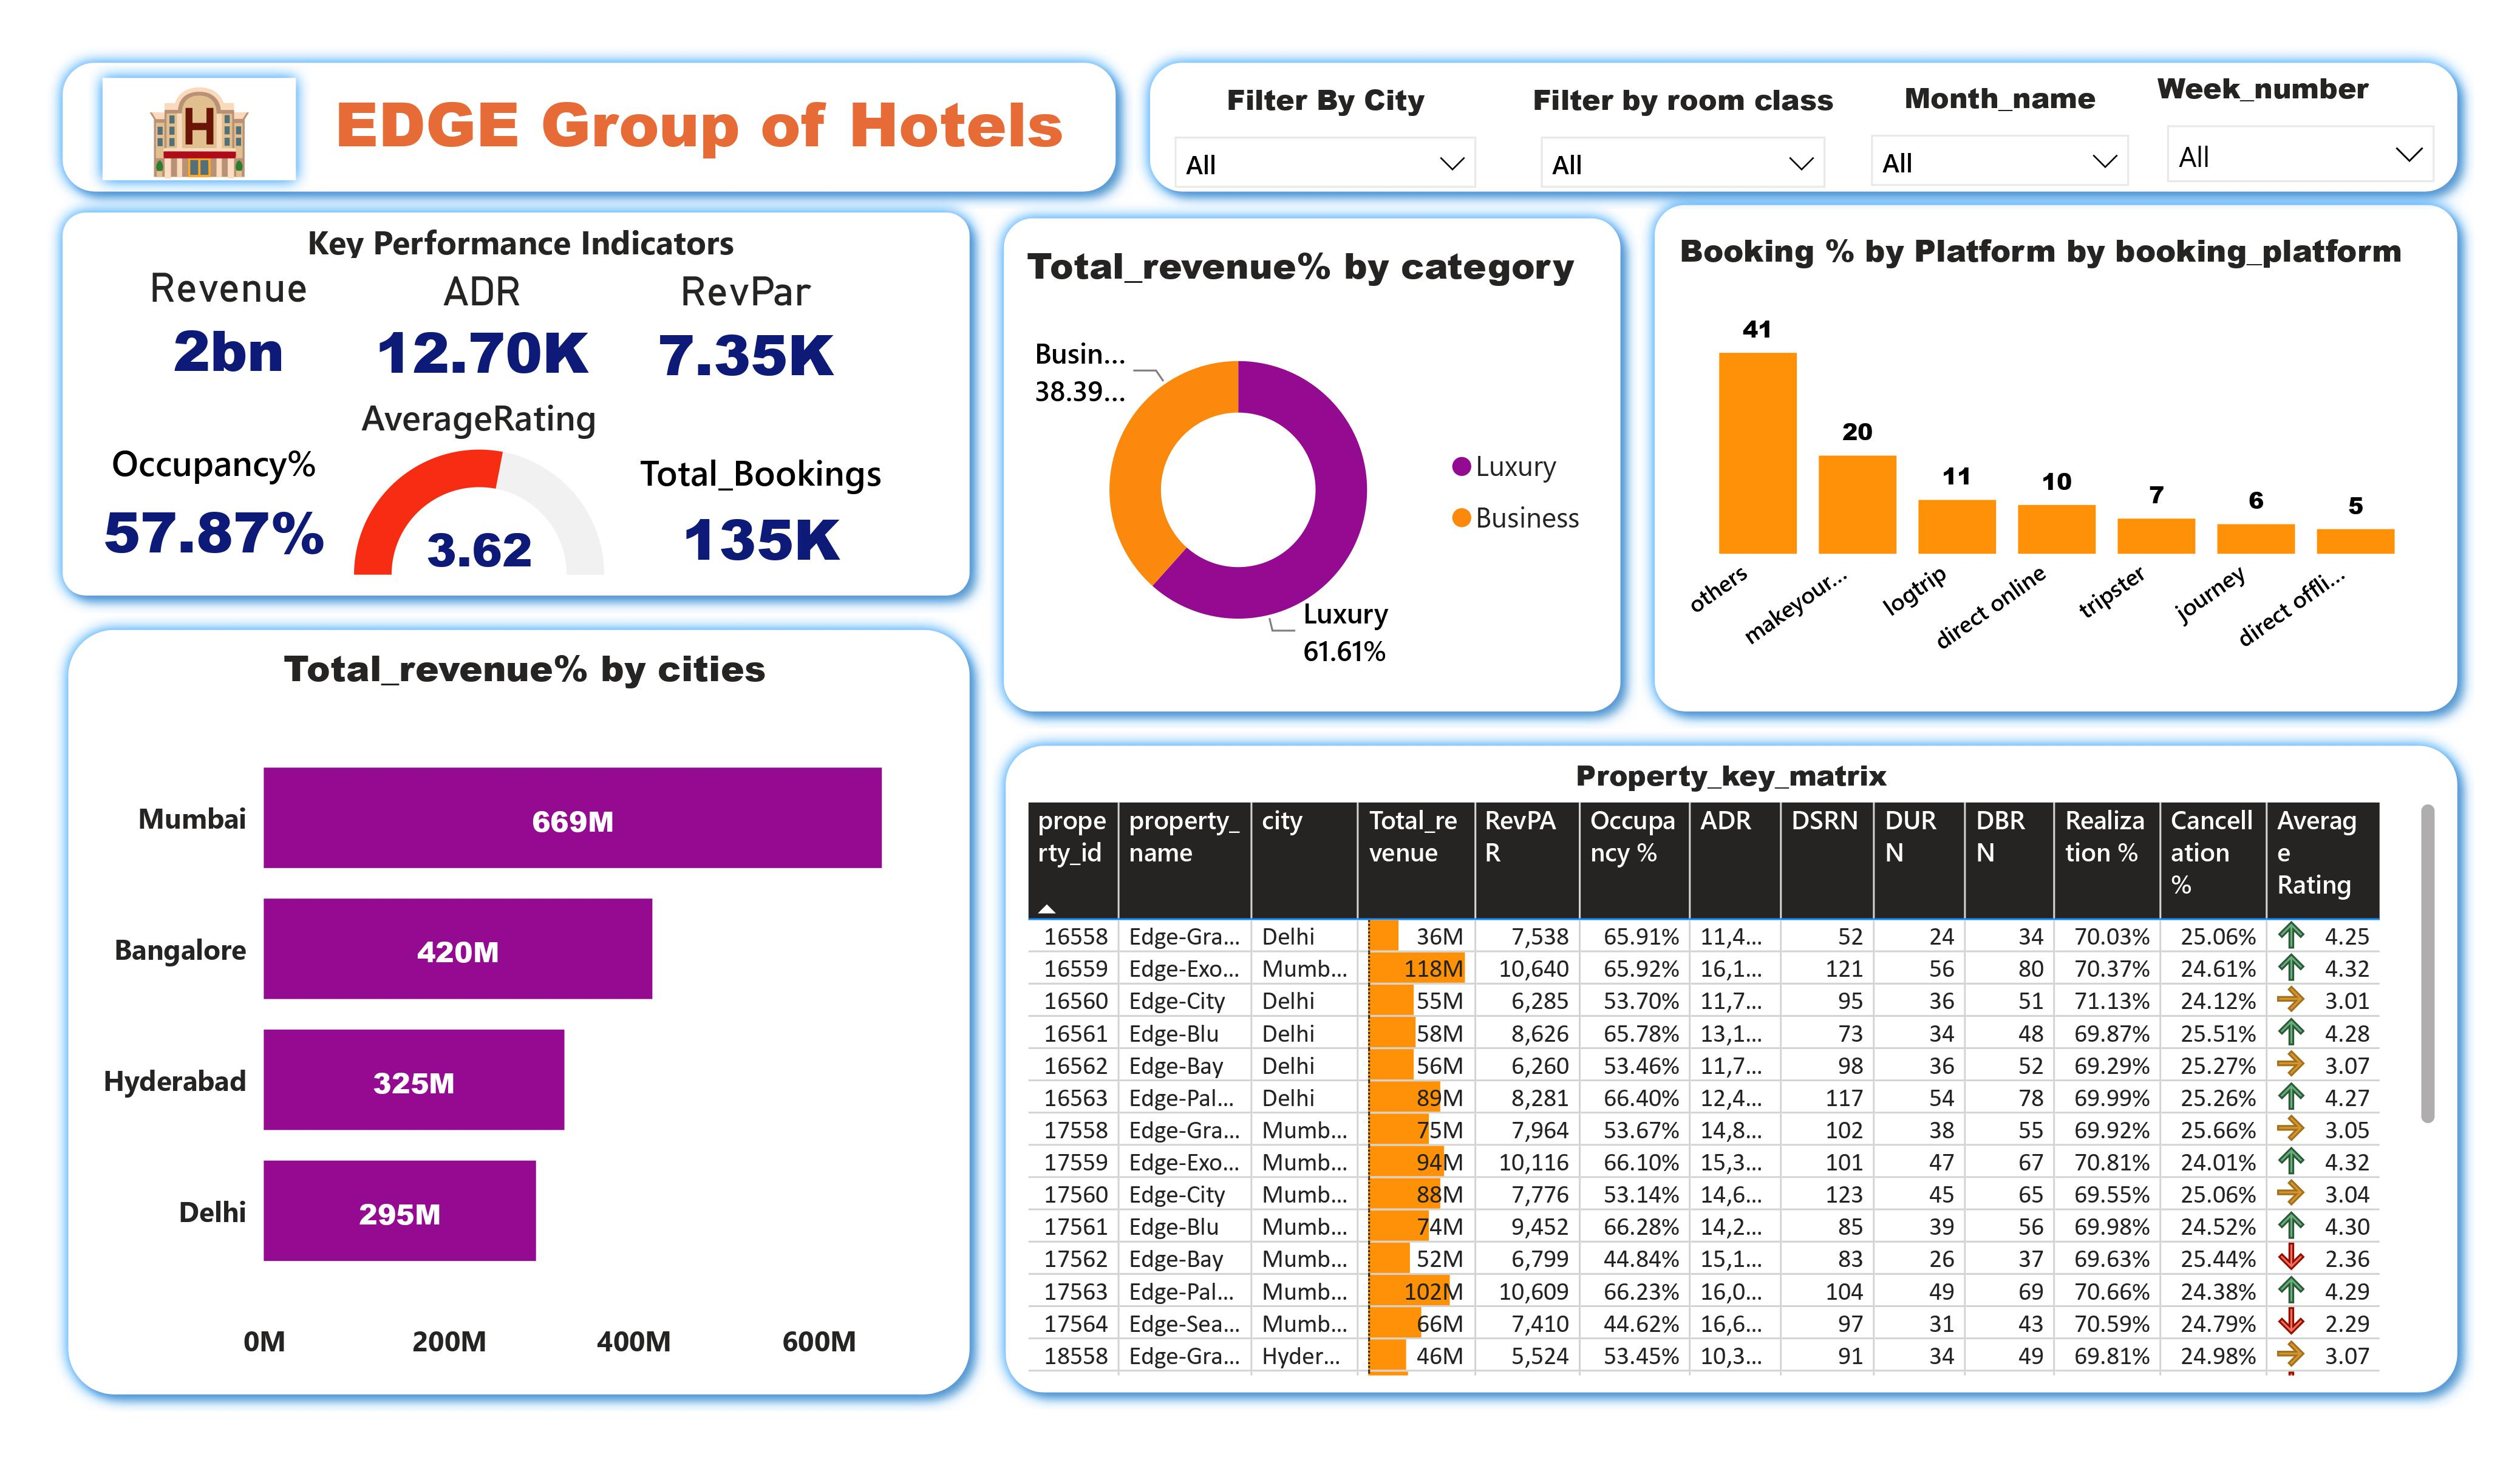

The dashboard page shown, as its layout file describes it:
{"tool":"powerbi","page":{"name":"MainPage","canvas":[1280,720],"ordinal":0},"visuals":[{"type":"textbox","box":[140.6,13.3,408.4,60.7],"z":0,"group":"g3"},{"type":"slicer","title":"Filter by room class","fields":{"Values":["dim_rooms.room_class"]},"box":[777.7,17.9,170.2,58.3],"z":0,"group":"g2"},{"type":"shape","box":[0,78.6,496.5,220],"z":0},{"type":"card","title":"RevPar","fields":{"Values":["key measures.RevPAR"]},"box":[302.6,117,132,68.2],"z":0,"group":"g1"},{"type":"actionButton","box":[22.2,8.9,118.4,69.5],"z":1000,"group":"g3"},{"type":"slicer","title":"Filter By City","fields":{"Values":["dim_hotels.city"]},"box":[584.5,17.9,179.4,62.9],"z":1000,"group":"g2"},{"type":"group","id":"g1","title":"Group 1","box":[35.5,115.4,399.5,69.5],"z":1000},{"type":"card","title":"Revenue","fields":{"Values":["key measures.Total_revenue"]},"box":[35.5,115.4,121,68.2],"z":1000,"group":"g1"},{"type":"slicer","title":"Month_name","fields":{"Values":["dim_date.Month Name"]},"box":[951,16.4,156.4,59.8],"z":2000,"group":"g2"},{"type":"shape","box":[496.5,81.7,342.5,278.1],"z":2000},{"type":"card","title":"ADR","fields":{"Values":["key measures.ADR"]},"box":[158.8,117,141.4,66.7],"z":2000,"group":"g1"},{"type":"slicer","title":"Week_number","fields":{"Values":["dim_date.week no"]},"box":[1107.4,11.8,161,64.4],"z":3000,"group":"g2"},{"type":"donutChart","title":"Total_revenue% by category","fields":{"Y":["key measures.Total_revenue"],"Category":["dim_hotels.category"]},"box":[512.2,102.1,311.1,238.8],"z":3000},{"type":"gauge","title":"AverageRating","fields":{"Y":["key measures.Average Rating"],"TargetValue":["key measures.target_rating"]},"box":[155.4,183.5,145,100.6],"z":3125,"group":"g4"},{"type":"card","title":"Total_Bookings","fields":{"Values":["key measures.Total Succesful Bookings"]},"box":[303.2,212.1,146.1,72.3],"z":3312,"group":"g4"},{"type":"card","title":"Occupancy%","fields":{"Values":["key measures.Occupancy %"]},"box":[21.6,207.9,133.5,73.8],"z":3500,"group":"g4"},{"type":"shape","box":[839,75.4,441.5,284.4],"z":4000},{"type":"clusteredColumnChart","fields":{"Y":["key measures.Booking % by Platform"],"Category":["fact_bookings.booking_platform"]},"box":[856.3,95.8,408.5,235.7],"z":5000},{"type":"shape","box":[497.2,359.6,782.8,359.6],"z":6000},{"type":"tableEx","title":"Property_key_matrix","fields":{"Values":["dim_hotels.property_id","dim_hotels.property_name","dim_hotels.city","key measures.Total_revenue","key measures.RevPAR","key measures.Occupancy %","key measures.ADR","key measures.DSRN","key measures.DURN","key measures.DBRN","key measures.Realisation %","key measures.Cancellation %"]},"box":[512,374.4,753.2,331.5],"z":7000},{"type":"shape","box":[3.1,298.5,493.3,421.1],"z":8000},{"type":"barChart","title":"Total_revenue% by cities","fields":{"Y":["key measures.Total_revenue"],"Category":["dim_hotels.city"]},"box":[23.7,313.7,457.2,390.7],"z":9000},{"type":"shape","box":[0,0,572.7,85.8],"z":10000},{"type":"shape","box":[572.7,0,707.3,85.8],"z":11000},{"type":"group","id":"g2","title":"Group 2","box":[584.5,11.8,683.7,69.5],"z":12000},{"type":"group","id":"g3","title":"Group 4","box":[22.2,8.9,526.8,69.5],"z":13000},{"type":"group","id":"g4","title":"Group 3","box":[21.6,183.5,427.7,100.9],"z":14000},{"type":"shape","box":[35.5,85.8,429.1,31.1],"z":15000}]}

Visuals, with their boxes on the page's 1280x720 design canvas (x1, y1, x2, y2). These are canvas units, not pixel positions in the 2520x1457 screenshot, which may show the page scaled, cropped or inside an application window:
textbox: [x1=141, y1=13, x2=549, y2=74]
"Filter by room class" slicer: [x1=778, y1=18, x2=948, y2=76]
shape: [x1=0, y1=79, x2=496, y2=299]
"RevPar" card: [x1=303, y1=117, x2=435, y2=185]
actionButton: [x1=22, y1=9, x2=141, y2=78]
"Filter By City" slicer: [x1=584, y1=18, x2=764, y2=81]
"Group 1" group: [x1=36, y1=115, x2=435, y2=185]
"Revenue" card: [x1=36, y1=115, x2=156, y2=184]
"Month_name" slicer: [x1=951, y1=16, x2=1107, y2=76]
shape: [x1=496, y1=82, x2=839, y2=360]
"ADR" card: [x1=159, y1=117, x2=300, y2=184]
"Week_number" slicer: [x1=1107, y1=12, x2=1268, y2=76]
"Total_revenue% by category" donutChart: [x1=512, y1=102, x2=823, y2=341]
"AverageRating" gauge: [x1=155, y1=184, x2=300, y2=284]
"Total_Bookings" card: [x1=303, y1=212, x2=449, y2=284]
"Occupancy%" card: [x1=22, y1=208, x2=155, y2=282]
shape: [x1=839, y1=75, x2=1280, y2=360]
clusteredColumnChart - key measures.Booking % by Platform x fact_bookings.booking_platform: [x1=856, y1=96, x2=1265, y2=332]
shape: [x1=497, y1=360, x2=1280, y2=719]
"Property_key_matrix" tableEx: [x1=512, y1=374, x2=1265, y2=706]
shape: [x1=3, y1=298, x2=496, y2=720]
"Total_revenue% by cities" barChart: [x1=24, y1=314, x2=481, y2=704]
shape: [x1=0, y1=0, x2=573, y2=86]
shape: [x1=573, y1=0, x2=1280, y2=86]
"Group 2" group: [x1=584, y1=12, x2=1268, y2=81]
"Group 4" group: [x1=22, y1=9, x2=549, y2=78]
"Group 3" group: [x1=22, y1=184, x2=449, y2=284]
shape: [x1=36, y1=86, x2=465, y2=117]
